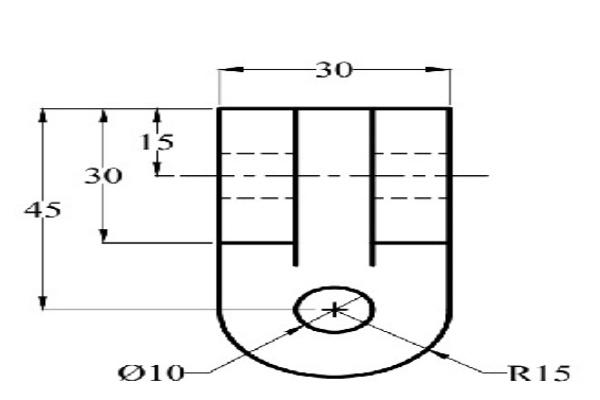dimensions: (116, 353, 189, 388), (504, 358, 581, 383), (309, 55, 358, 87), (133, 129, 185, 156), (82, 160, 131, 187), (22, 195, 67, 224)
